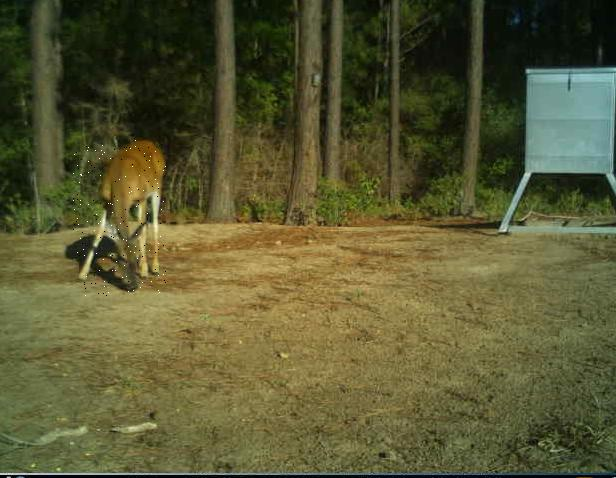Deer: (72, 137, 165, 297)
